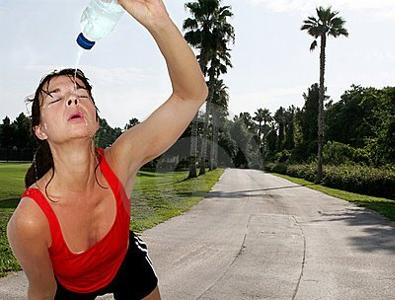person: (8, 2, 210, 300)
